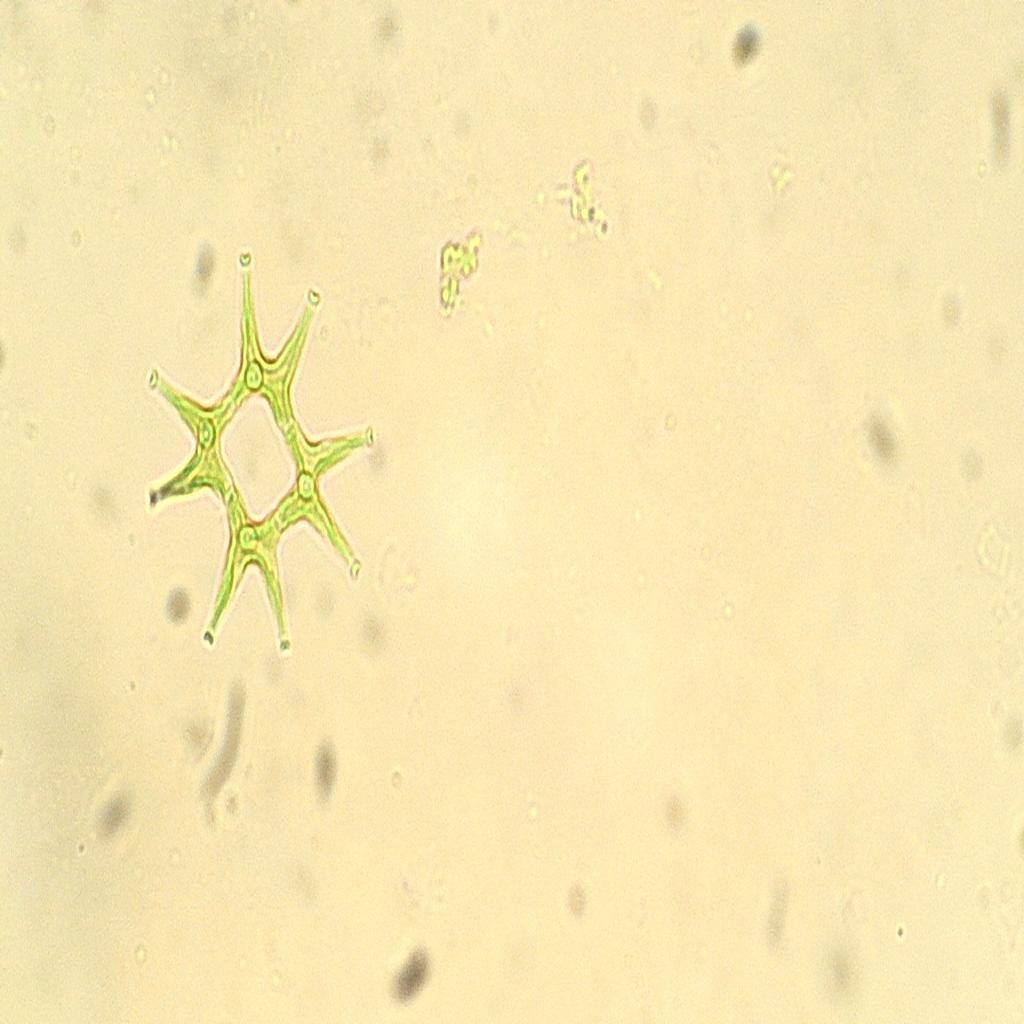Pediastrum_75O: (138, 238, 386, 682)
